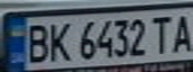2: (127, 15, 151, 57)
3: (112, 16, 133, 57)
4: (93, 16, 115, 58)
6: (75, 17, 96, 61)
A: (169, 10, 193, 53)
B: (21, 20, 51, 64)
K: (45, 19, 75, 63)
T: (148, 12, 175, 55)
